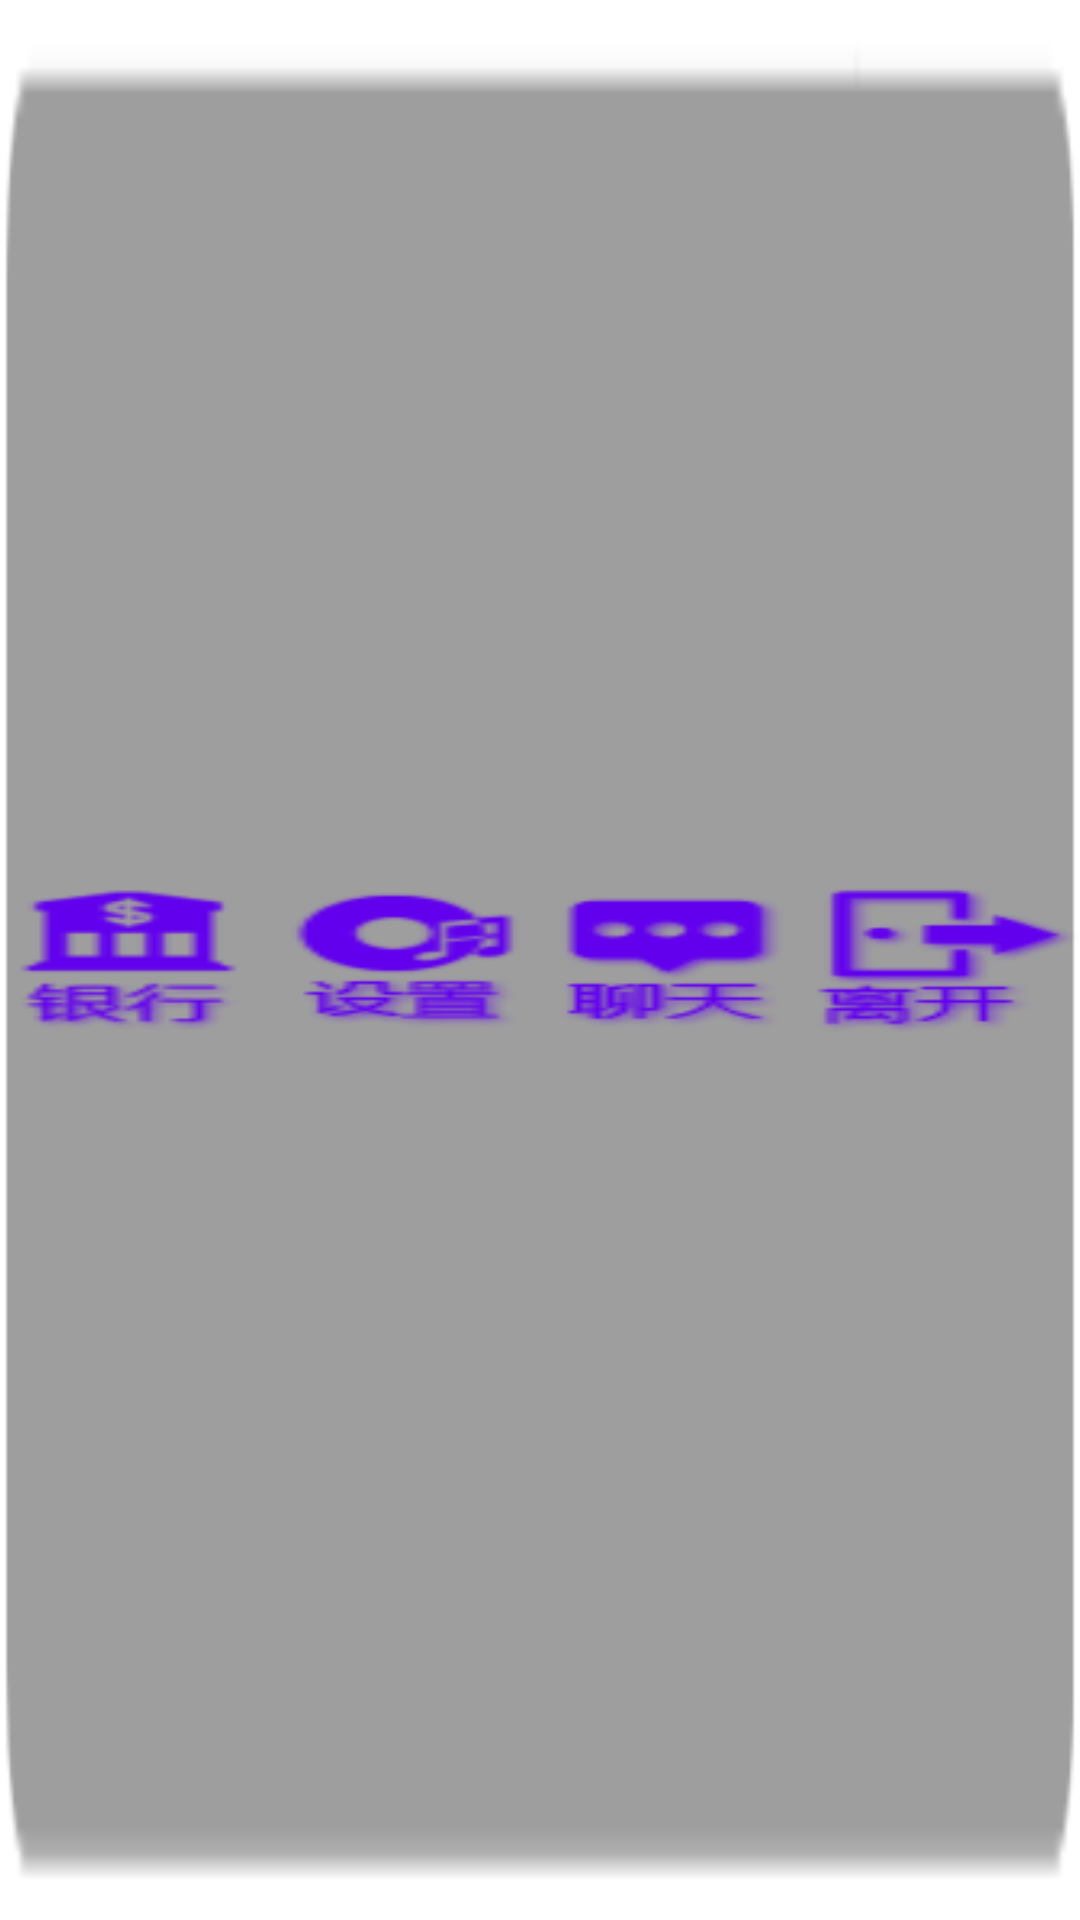

Point at icon controls on the screen. Image size 1080 x 1920, points as [x,y].
game music: [405,958]
